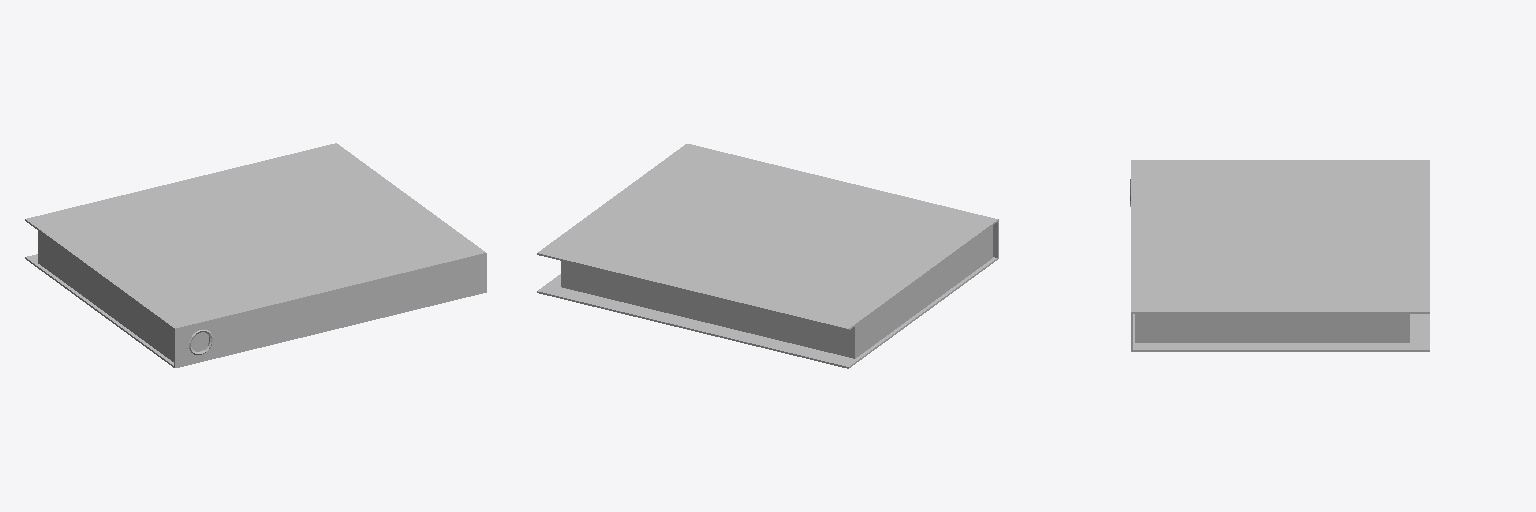
File: folder.obj
The picture shows the model from 3 angles: view 1: azimuth 30°, elevation 25°; view 2: azimuth 150°, elevation 25°; view 3: azimuth 270°, elevation 25°; orthographic projection.
Parts seen in each view (by area): view 1: folder_Cube.008; view 2: folder_Cube.008; view 3: folder_Cube.008.
Boxes of the visible parts, <box> form: folder_Cube.008: <box>25,143,486,367</box>; folder_Cube.008: <box>537,144,998,368</box>; folder_Cube.008: <box>1130,160,1429,351</box>.
Size of the model in its own units: 3.24 by 0.396 by 2.71.